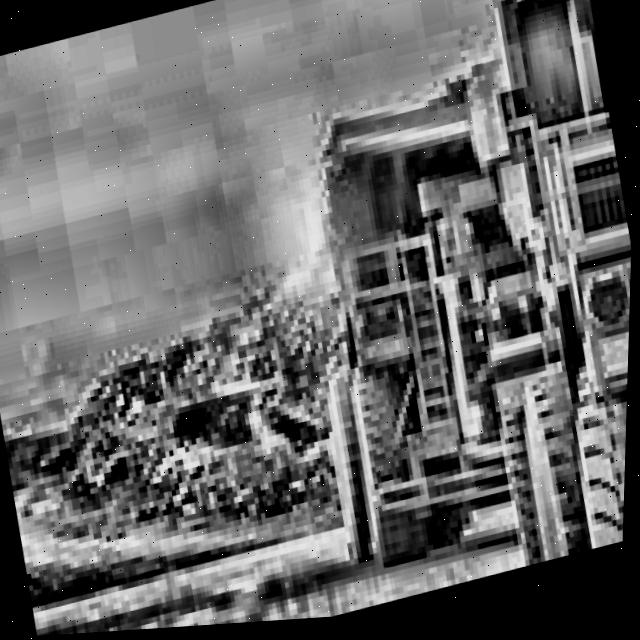dump_truck: (212, 0, 640, 608), (384, 0, 640, 586)
